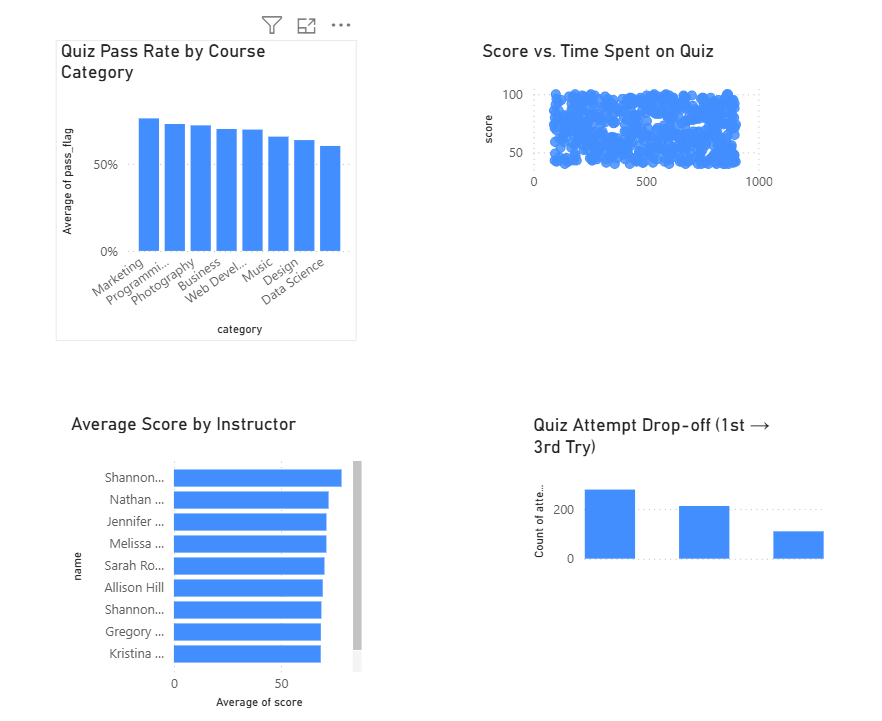

Layout of this report page (visuals, bound fields, positions):
{"tool":"powerbi","page":{"name":"Page 1","canvas":[1280,720],"ordinal":0},"visuals":[{"type":"clusteredColumnChart","title":"Quiz Pass Rate by Course Category","fields":{"Category":["public dim_course.category"],"Y":["Avg(public fact_quiz_attempt.pass_flag)"]},"box":[166.3,55.8,280,280],"z":0},{"type":"clusteredBarChart","title":"Average Score by Instructor","fields":{"Category":["public dim_instructor.name"],"Y":["Avg(public fact_quiz_attempt.score)"]},"box":[175.6,402.3,280,280],"z":1000},{"type":"scatterChart","title":"Score vs. Time Spent on Quiz","fields":{"X":["public fact_quiz_attempt.time_spent_seconds"],"Y":["public fact_quiz_attempt.score"]},"box":[558.1,55.8,280,150],"z":2000},{"type":"clusteredColumnChart","title":"Quiz Attempt Drop-off (1st → 3rd Try)","fields":{"Y":["CountNonNull(public fact_quiz_attempt.attempt_number)"],"Category":["public fact_quiz_attempt.attempt_number"]},"box":[605.8,402.3,280,150],"z":3000}]}

Visuals, with their boxes on the page's 1280x720 design canvas (x1, y1, x2, y2). These are canvas units, not pixel positions in the 882x721 screenshot, which may show the page scaled, cropped or inside an application window:
"Quiz Pass Rate by Course Category" clusteredColumnChart: [x1=166, y1=56, x2=446, y2=336]
"Average Score by Instructor" clusteredBarChart: [x1=176, y1=402, x2=456, y2=682]
"Score vs. Time Spent on Quiz" scatterChart: [x1=558, y1=56, x2=838, y2=206]
"Quiz Attempt Drop-off (1st → 3rd Try)" clusteredColumnChart: [x1=606, y1=402, x2=886, y2=552]
